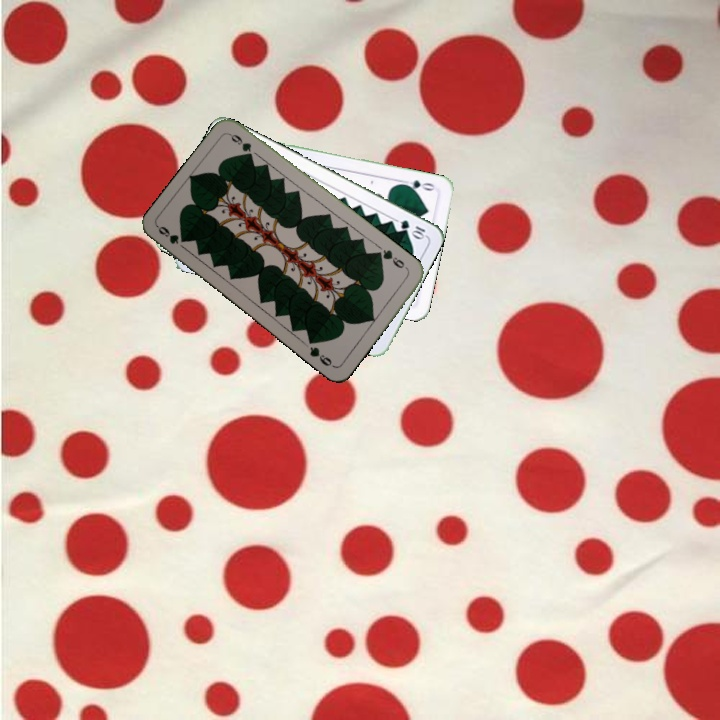G10: (396, 216, 428, 241)
G9: (374, 246, 407, 271), (154, 222, 181, 247)
GO: (398, 176, 438, 194)
